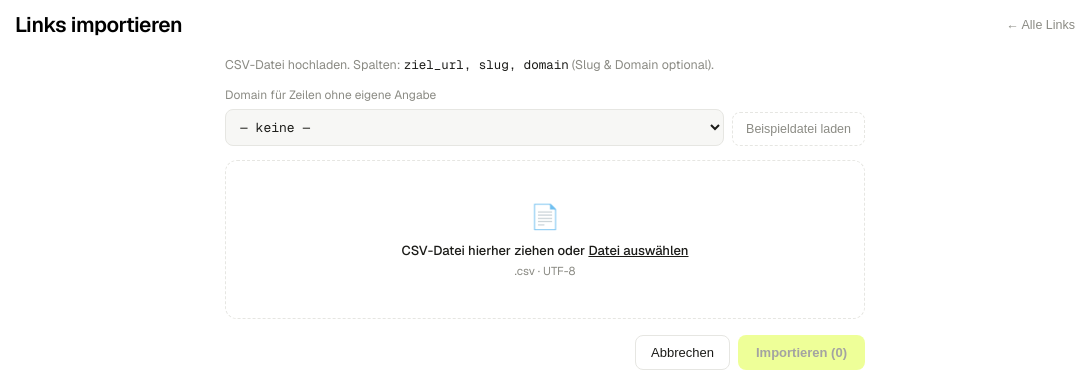
Test case: LinksImportView › 'Beispieldatei laden' loads a demo CSV into the preview without a file picker
Click the button with class "sample-link" at (798, 129), box [732,112,865,146]
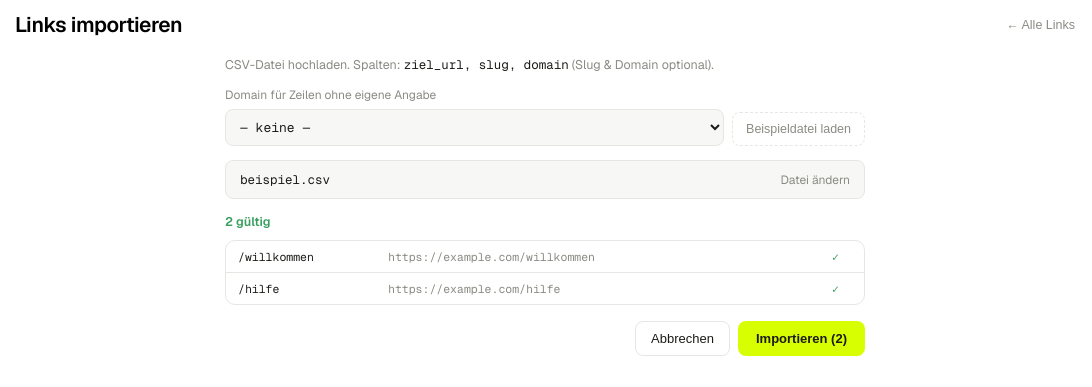
Expected: the text with class "file-chip-name" reads "beispiel.csv", [240,171,330,188]
